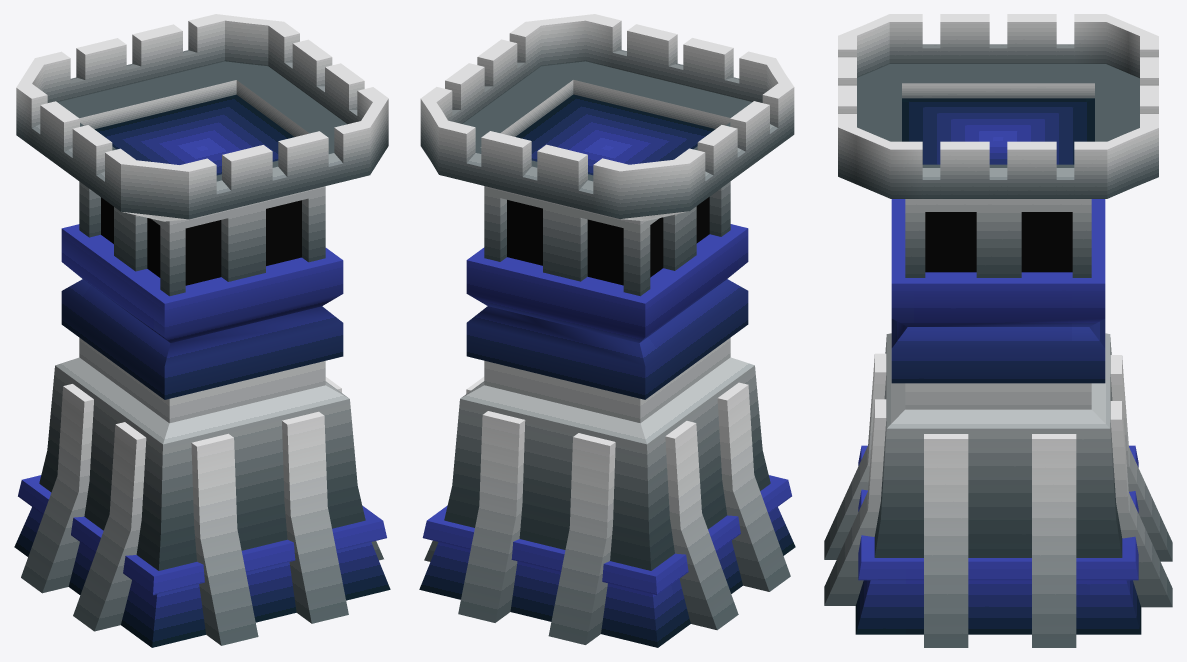
Rendered from tower_lvl5.fbx.
3 renders of one model, left to right at view 1: azimuth 30°, elevation 25°; view 2: azimuth 150°, elevation 25°; view 3: azimuth 270°, elevation 25°, orthographic. The views are drawn at different scales.
Parts seen in each view (by area): view 1: tower_lvl5; view 2: tower_lvl5; view 3: tower_lvl5.
Part boxes in pixels (x1,y1,x2,y2): tower_lvl5: (14,14,390,647); tower_lvl5: (419,14,795,647); tower_lvl5: (824,14,1172,647).
Size of the model in its own units: 997 by 1554 by 997.
